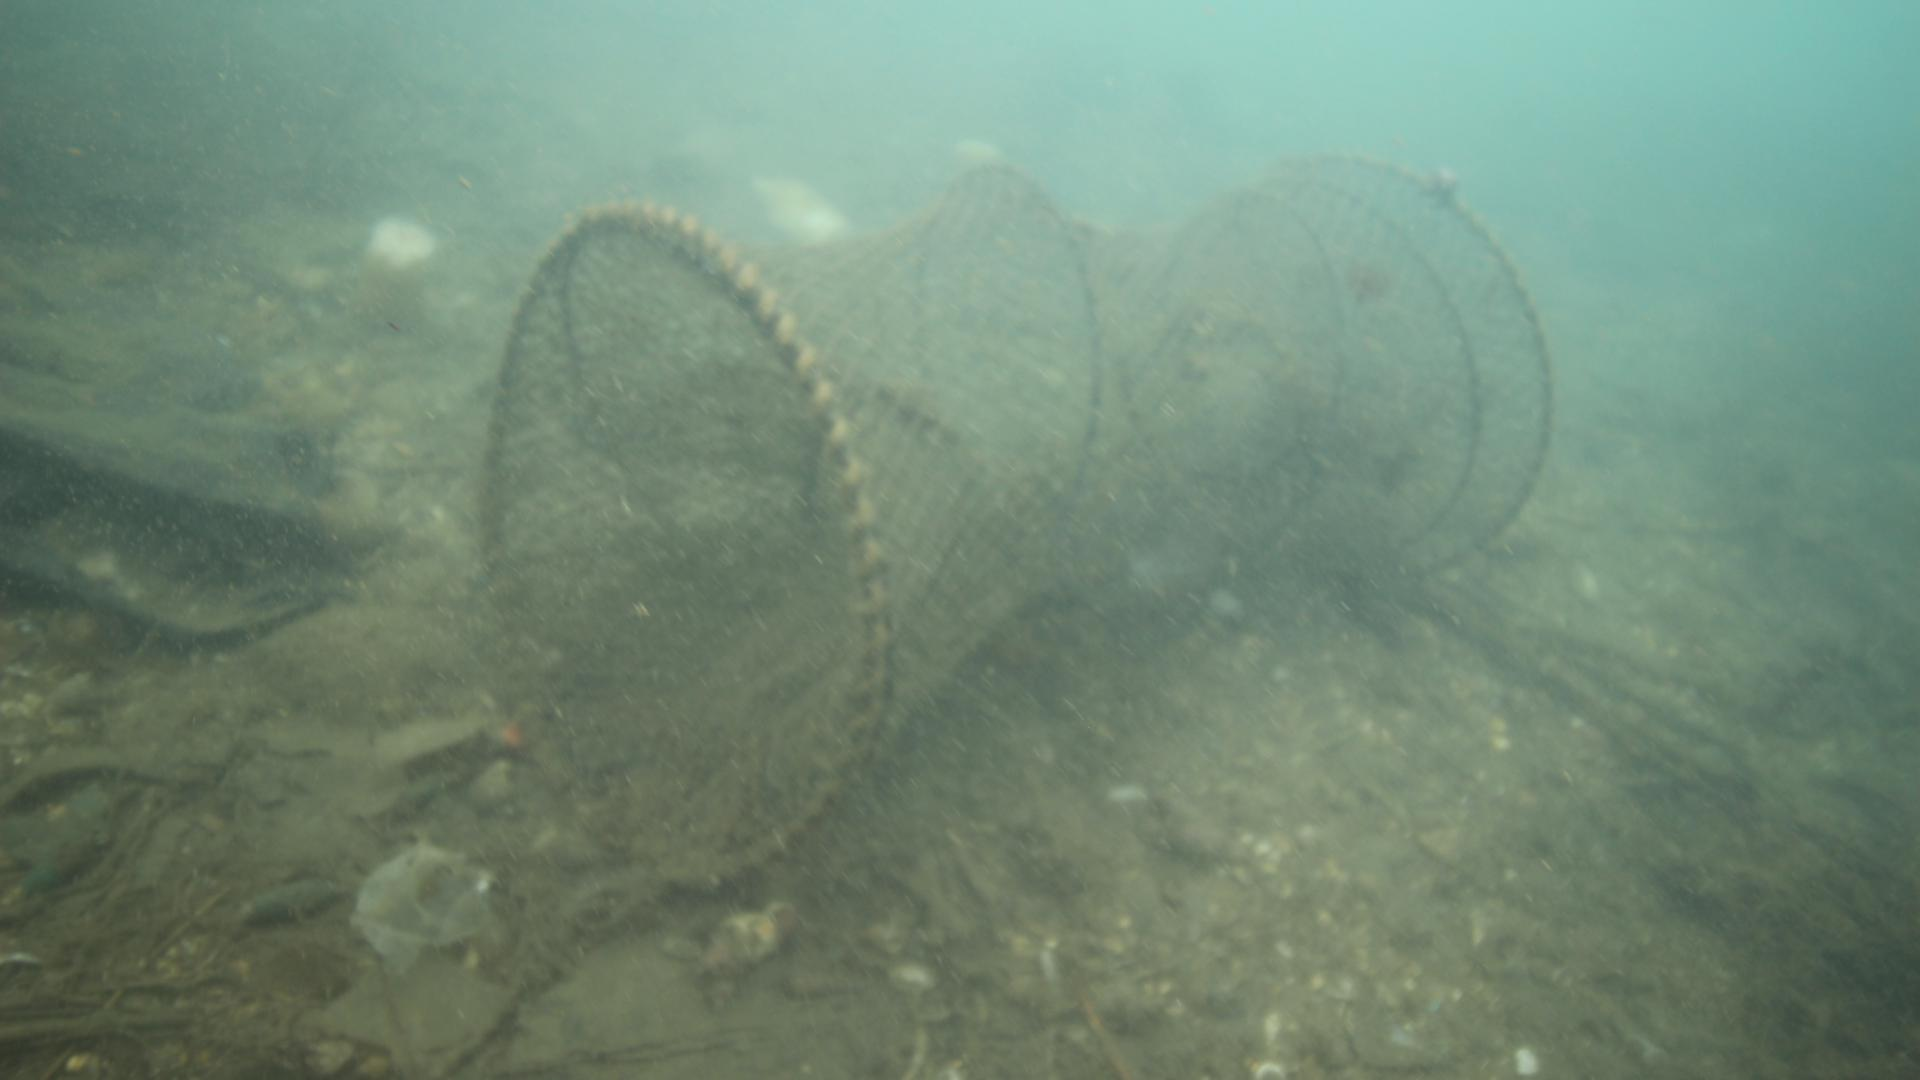spring fish trap: (477, 150, 1553, 890)
